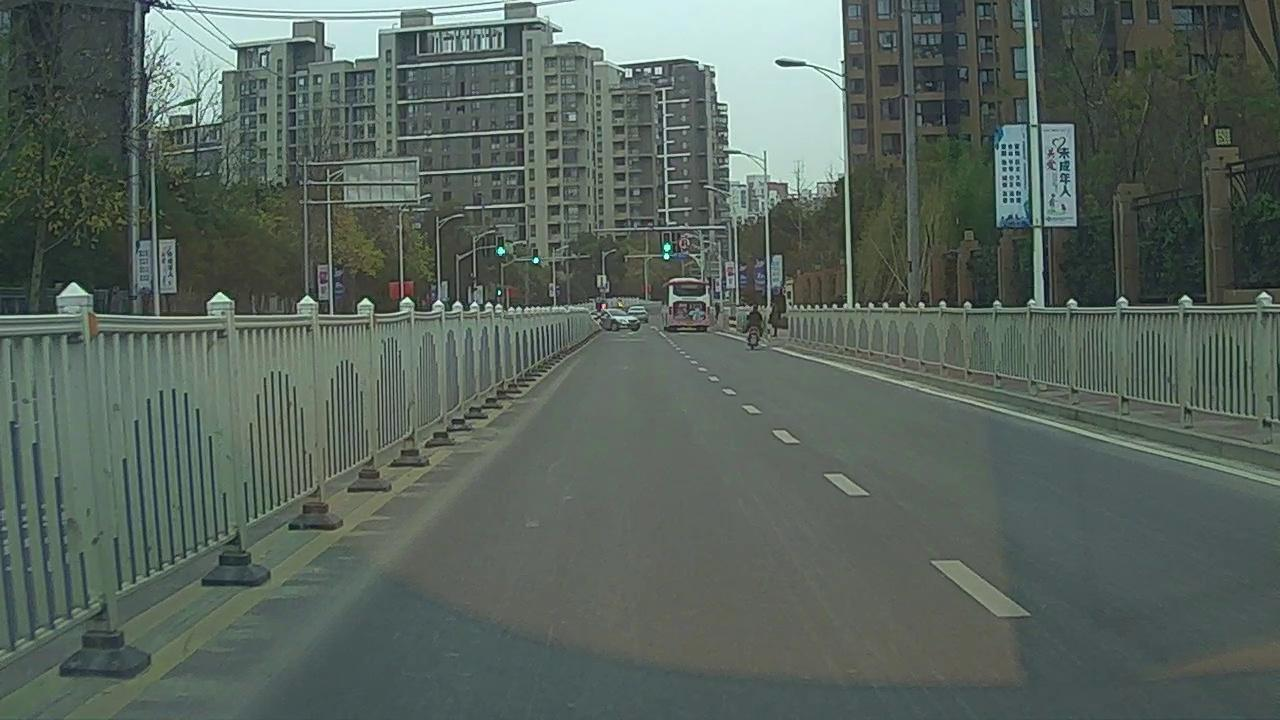traffic_light: (496, 236, 504, 259), (663, 232, 671, 254), (534, 249, 540, 264)
